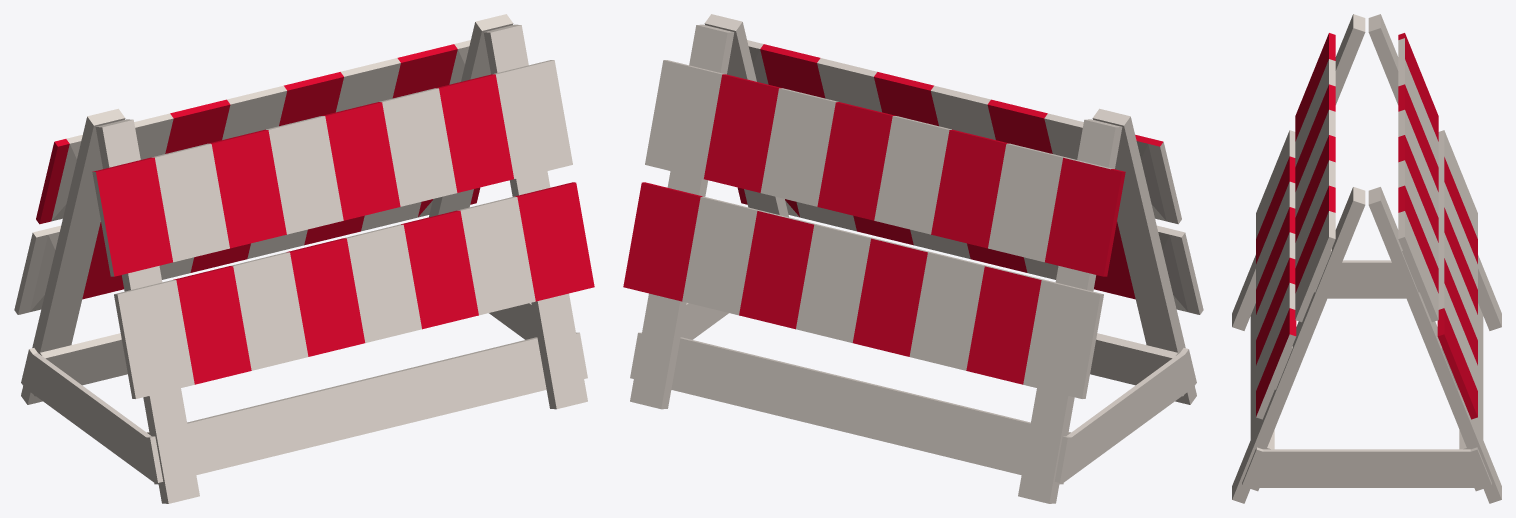
File: Construction_Fence_City.fbx
3 renders of one model, left to right at view 1: azimuth 30°, elevation 25°; view 2: azimuth 150°, elevation 25°; view 3: azimuth 270°, elevation 25°, orthographic. The views are drawn at different scales.
Parts seen in each view (by area): view 1: Cube; view 2: Cube; view 3: Cube.
Boxes of the visible parts, x1=… form: Cube: x1=14, y1=14, x2=594, y2=503; Cube: x1=623, y1=14, x2=1203, y2=503; Cube: x1=1232, y1=14, x2=1501, y2=503.
Bounding box in the file's own units: 3.35 × 2.32 × 1.87.
